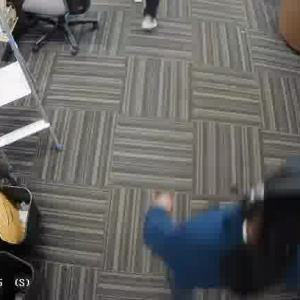person: (159, 148, 300, 292)
